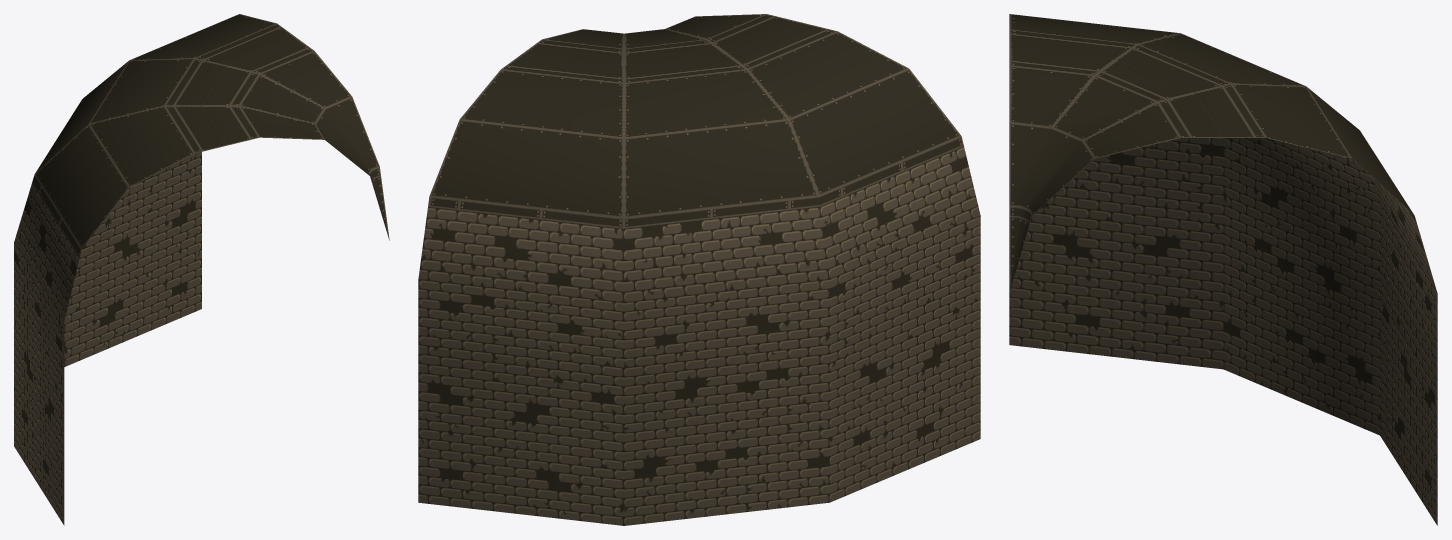
The model's file is RoundedArc.fbx.
3 renders of one model, left to right at view 1: azimuth 30°, elevation 25°; view 2: azimuth 150°, elevation 25°; view 3: azimuth 270°, elevation 25°, orthographic. The views are drawn at different scales.
Parts seen in each view (by area): view 1: RoundedArc01, RoundedArc02; view 2: RoundedArc01, RoundedArc02; view 3: RoundedArc01, RoundedArc02.
Boxes of the visible parts, box(x1,y1,x2,y2) form: RoundedArc01: box(14, 14, 295, 525); RoundedArc02: box(201, 37, 389, 240); RoundedArc01: box(418, 22, 980, 525); RoundedArc02: box(521, 14, 801, 66); RoundedArc01: box(1009, 14, 1437, 525); RoundedArc02: box(1009, 47, 1222, 292).
Bounding box in the file's own units: 1000 × 1000 × 1000.
